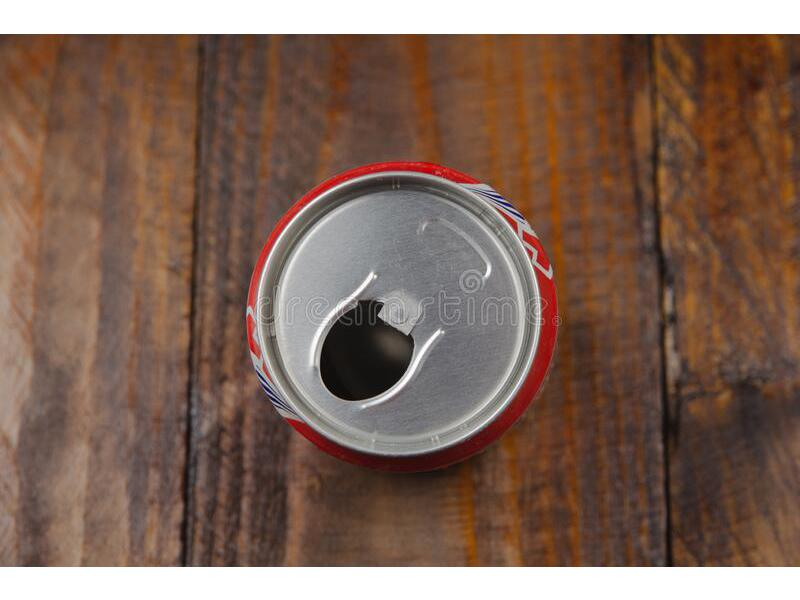can: (235, 149, 570, 466)
